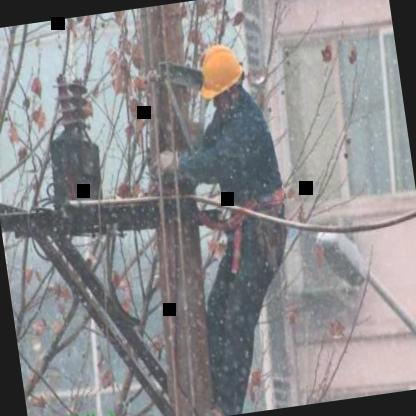helmet: (193, 35, 252, 111)
